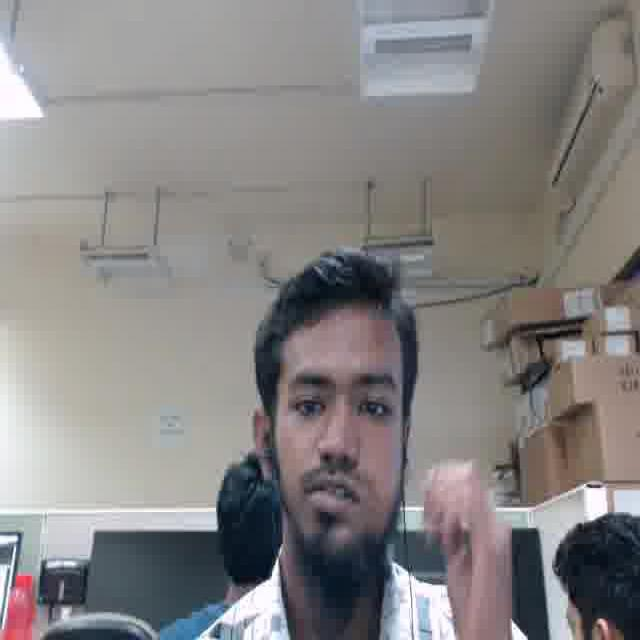Engaged: (273, 319, 404, 552)
